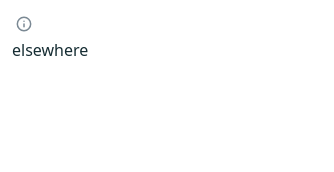
Test: InfoTip › a mouse click pins the tooltip until the user clicks elsewhere
Later steps or results of the test are not shown.
Click the button with test id "infotip".
click(24, 24)  # box top-left (12, 12), bottom-right (36, 36)
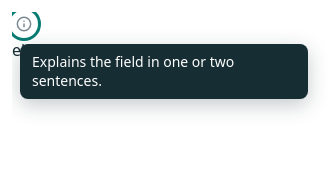
Now the tooltip "Explains the field in one or two sentences." is shown, box top-left (20, 44), bottom-right (308, 98)
Move the pointer off the button with test id "infotip", box top-left (12, 12), bottom-right (36, 36)
Now the tooltip "Explains the field in one or two sentences." is shown, box top-left (20, 44), bottom-right (308, 98)
